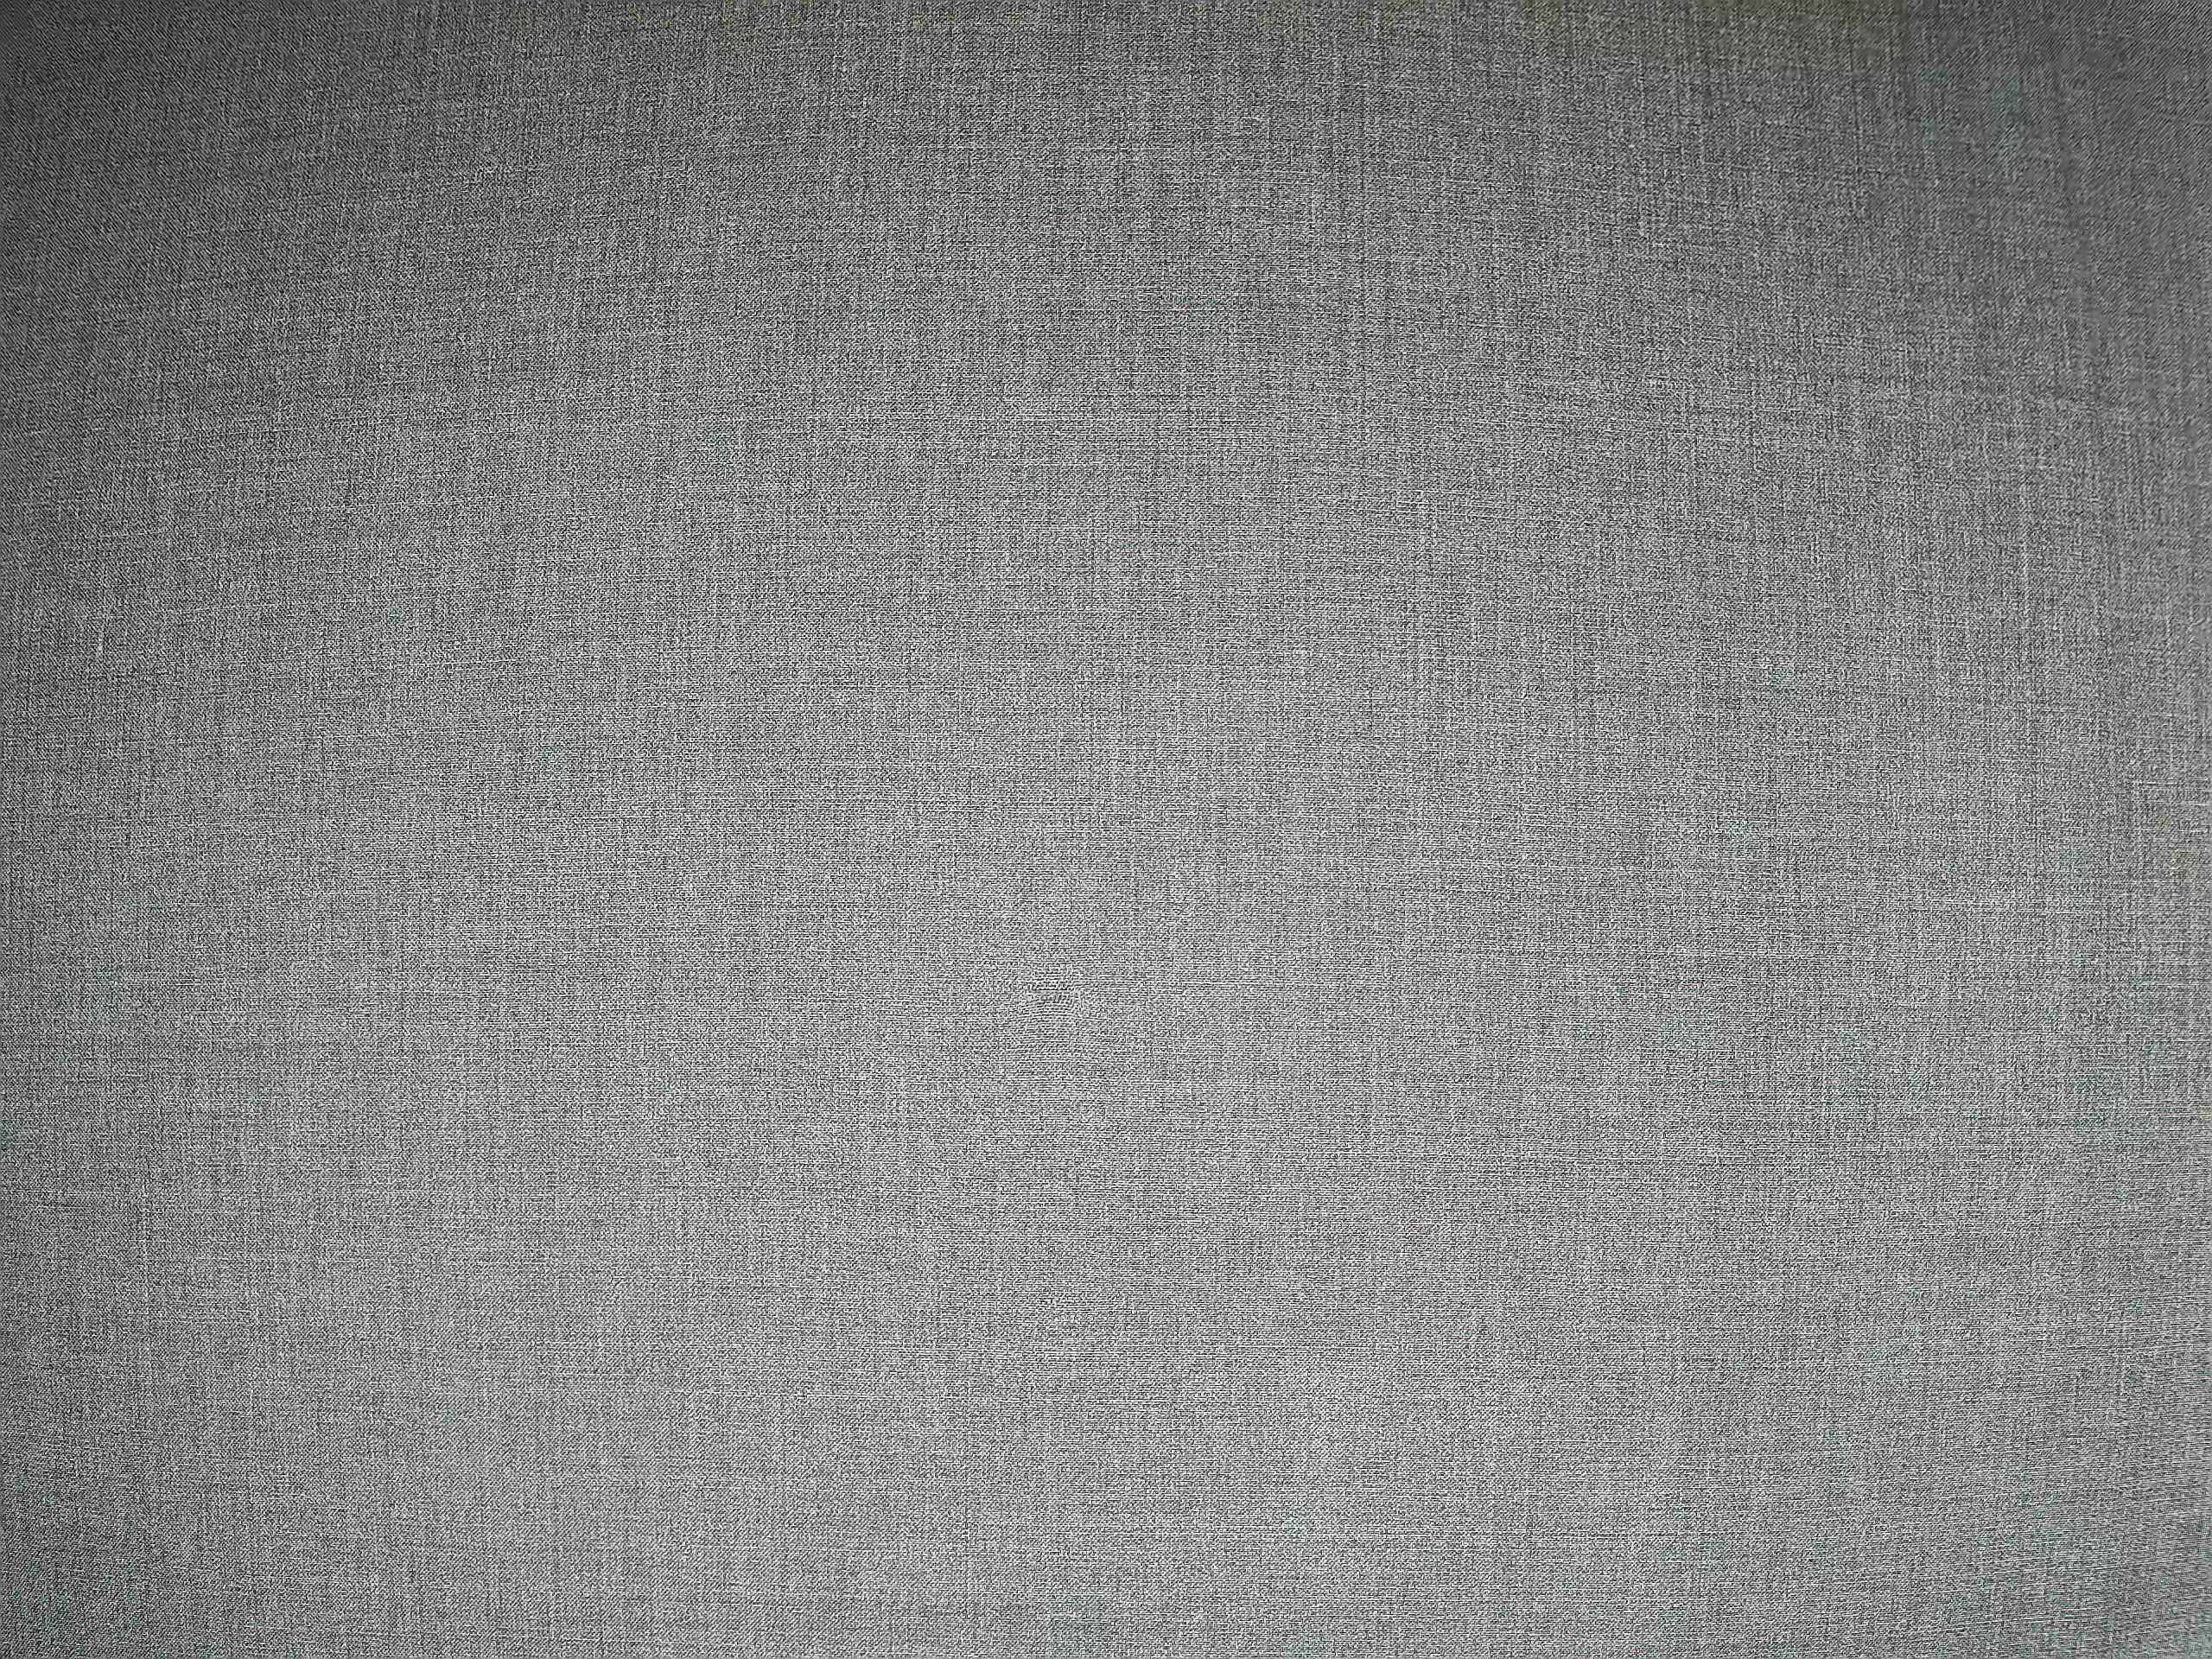filling_floats: (997, 960, 1169, 1052)
